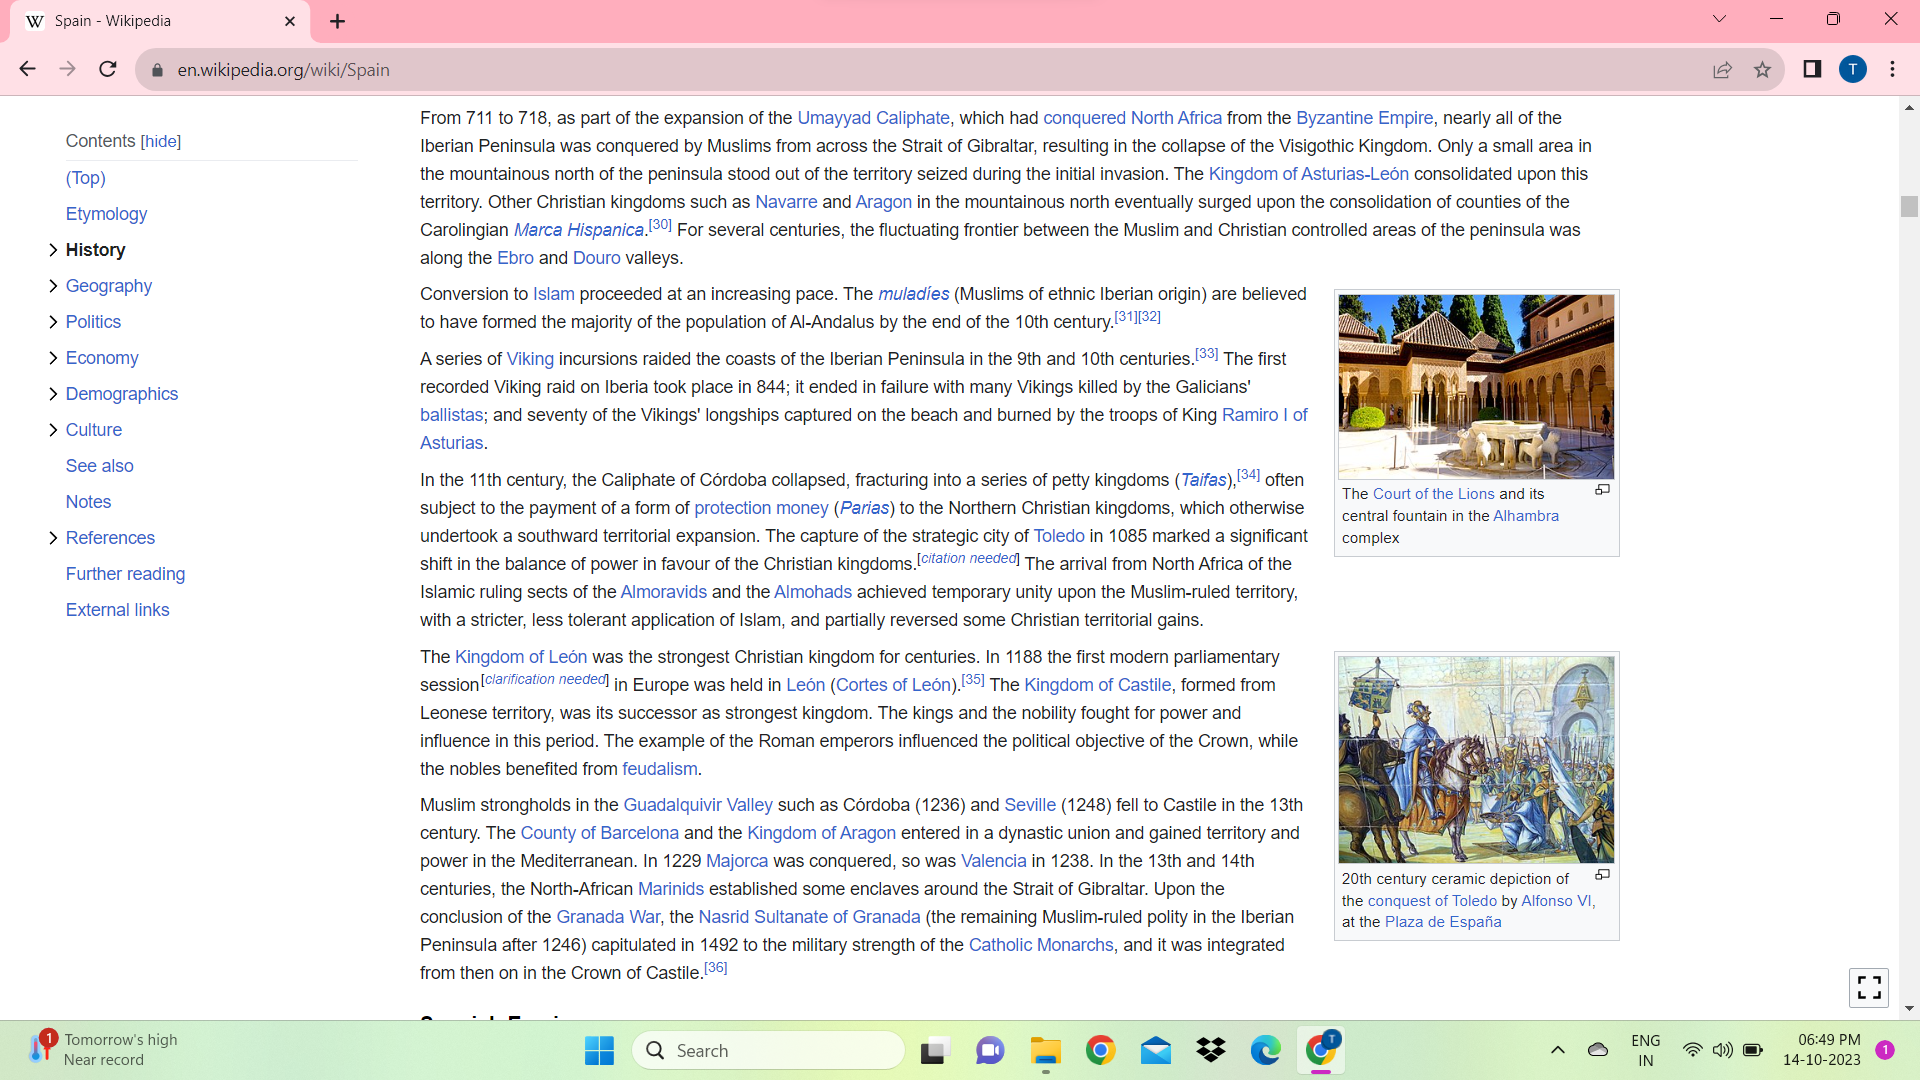Image: (1336, 647, 1614, 869), (1327, 285, 1609, 481)
Paragraph: (406, 99, 1618, 269), (410, 796, 1323, 981), (397, 462, 1313, 630), (407, 637, 1319, 781), (410, 343, 1319, 454), (401, 282, 1316, 335), (1333, 488, 1604, 554), (1336, 876, 1614, 936), (51, 376, 204, 414), (61, 116, 193, 160), (61, 593, 177, 625), (54, 302, 149, 340), (65, 526, 173, 554), (58, 455, 164, 481), (50, 199, 162, 223)
